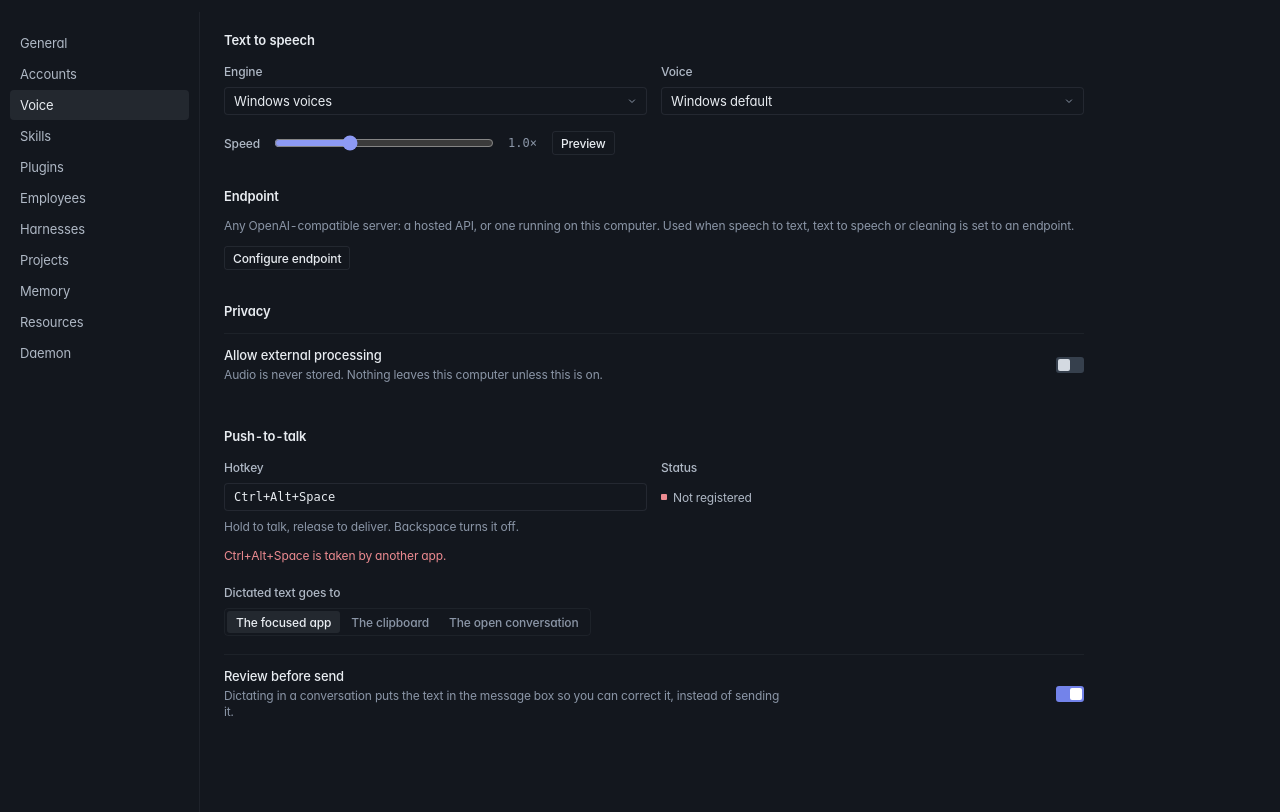
Test: Voice settings › the hotkey field records a combination and shows a registration error
(page scrolled)
expect the message shows "taken by another app": met, box 224,548 -> 446,563
Click the field named "Push-to-talk hotkey" at coordinates (436, 497), box 224,483 -> 647,511
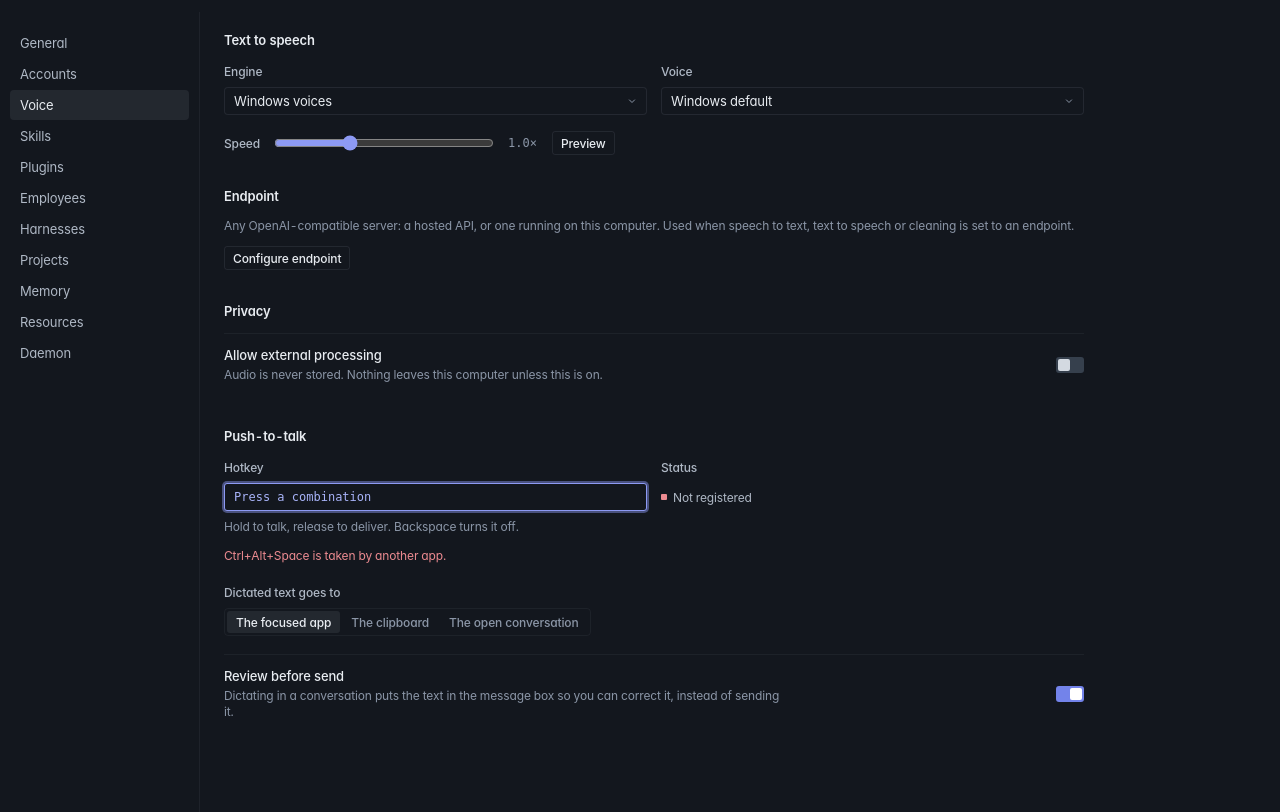
expect the field named "Push-to-talk hotkey" holds "Press a combination": met, box 224,483 -> 647,511
Type keys "{Control>}{Shift>}k{/Shift}{/Control}"
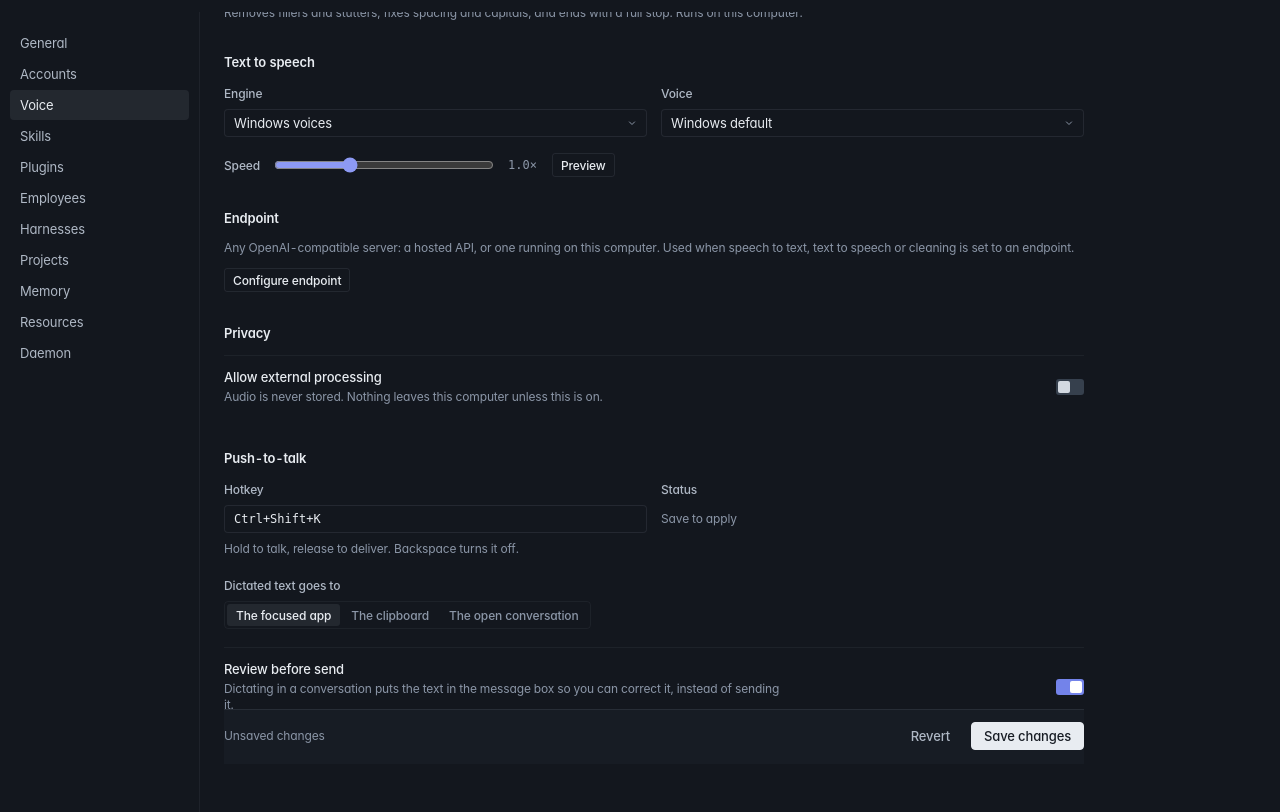
expect the field named "Push-to-talk hotkey" holds "Ctrl+Shift+K": met, box 224,505 -> 647,533
expect the button "Save changes" is shown: met, box 971,722 -> 1084,750
